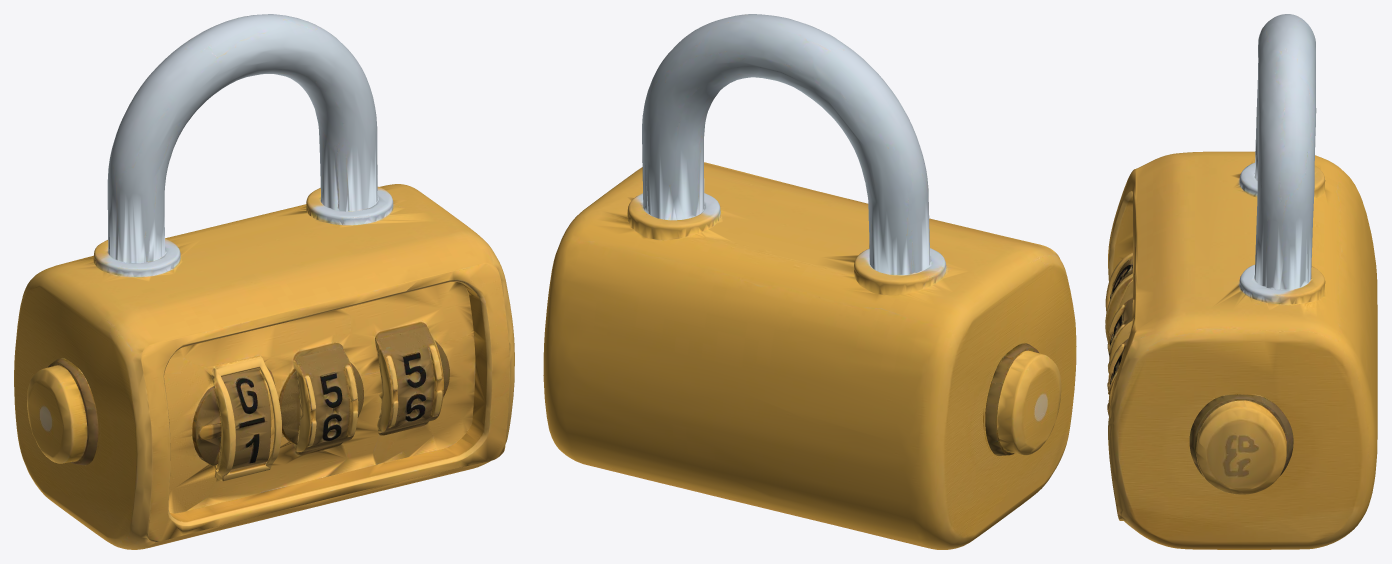
Rendered from cadenas.glb.
3 views of the same model, side by side, from view 1: azimuth 30°, elevation 25°; view 2: azimuth 150°, elevation 25°; view 3: azimuth 270°, elevation 25° (orthographic). The views are drawn at different scales.
Size of the model in its own units: 1.9 by 1.9 by 1.04.
Materials: 1 (1 with a texture image).
